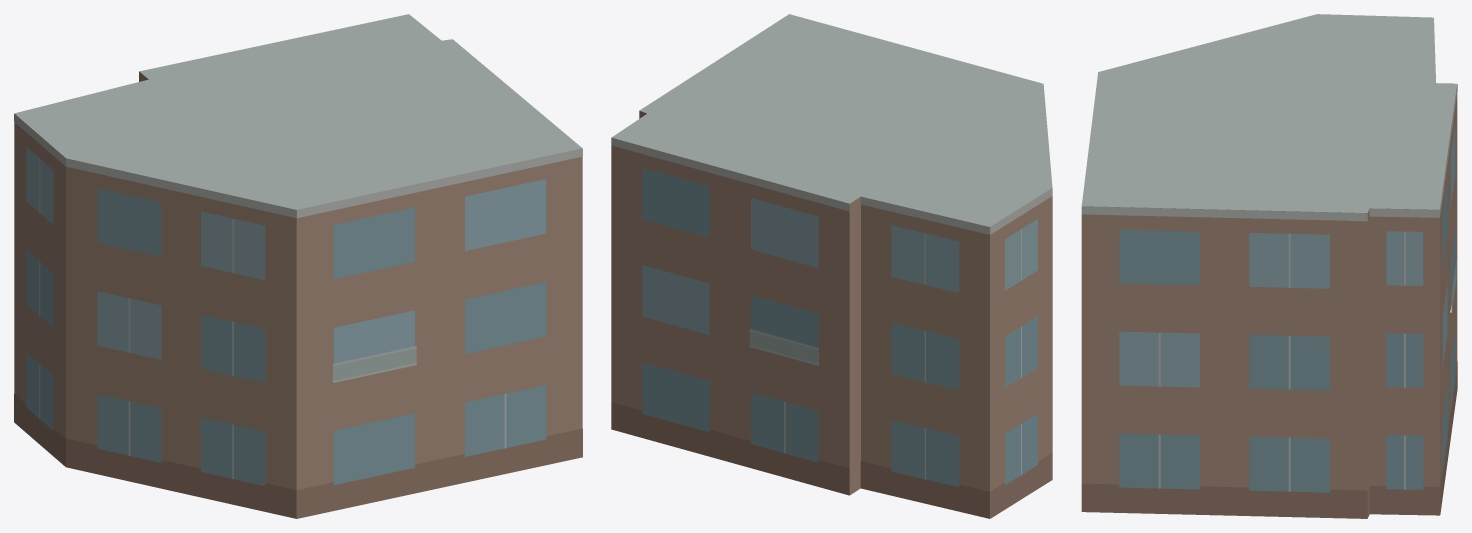
File: survey-upis-32629223.glb
3 renders of one model, left to right at view 1: azimuth 30°, elevation 25°; view 2: azimuth 150°, elevation 25°; view 3: azimuth 270°, elevation 25°, orthographic. The views are drawn at different scales.
Parts seen in each view (by area): view 1: survey-upis-32629223.tmp; view 2: survey-upis-32629223.tmp; view 3: survey-upis-32629223.tmp.
Boxes of the visible parts, x1,y1,x2,y2 form: survey-upis-32629223.tmp: [14, 14, 582, 518]; survey-upis-32629223.tmp: [611, 14, 1052, 518]; survey-upis-32629223.tmp: [1081, 14, 1457, 518].
Size of the model in its own units: 12.72 by 9.1 by 10.15.
